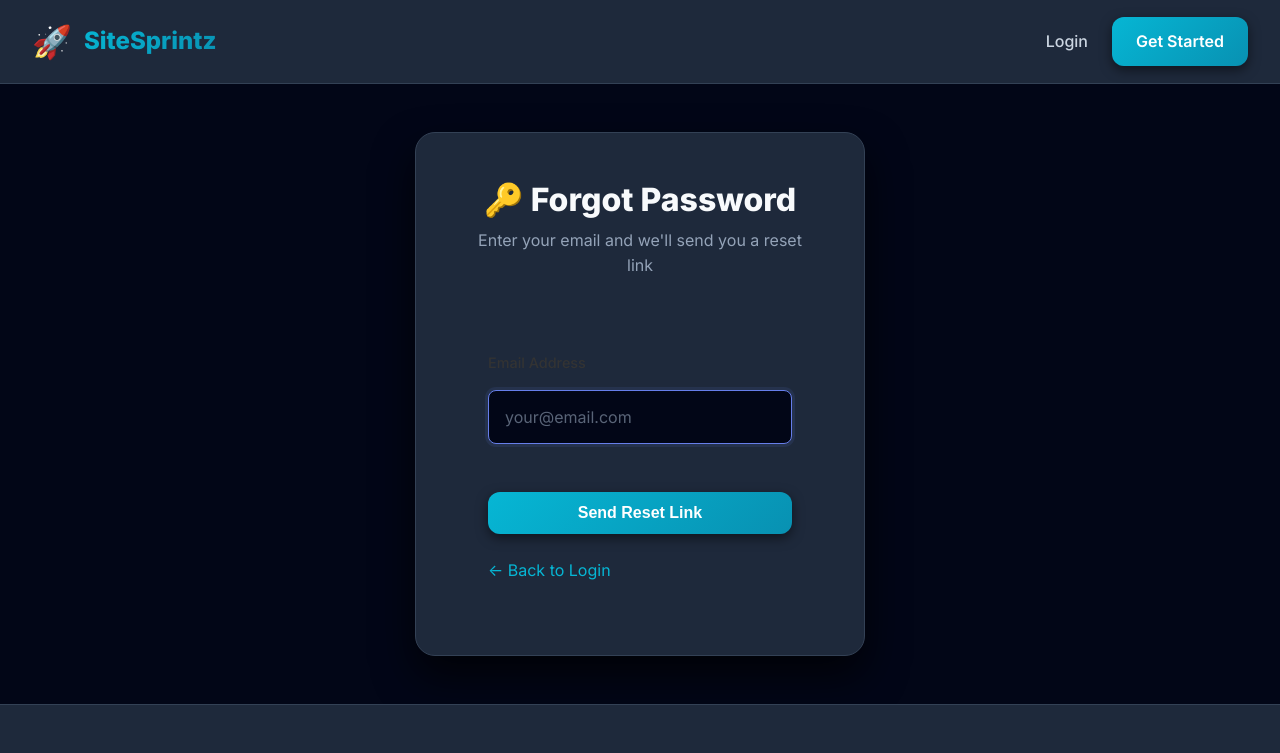
Test: ForgotPassword Component › should allow trying again after success
Type "test@example.com" into the field labelled "Email Address" at [640, 417], box [488, 390, 792, 444]
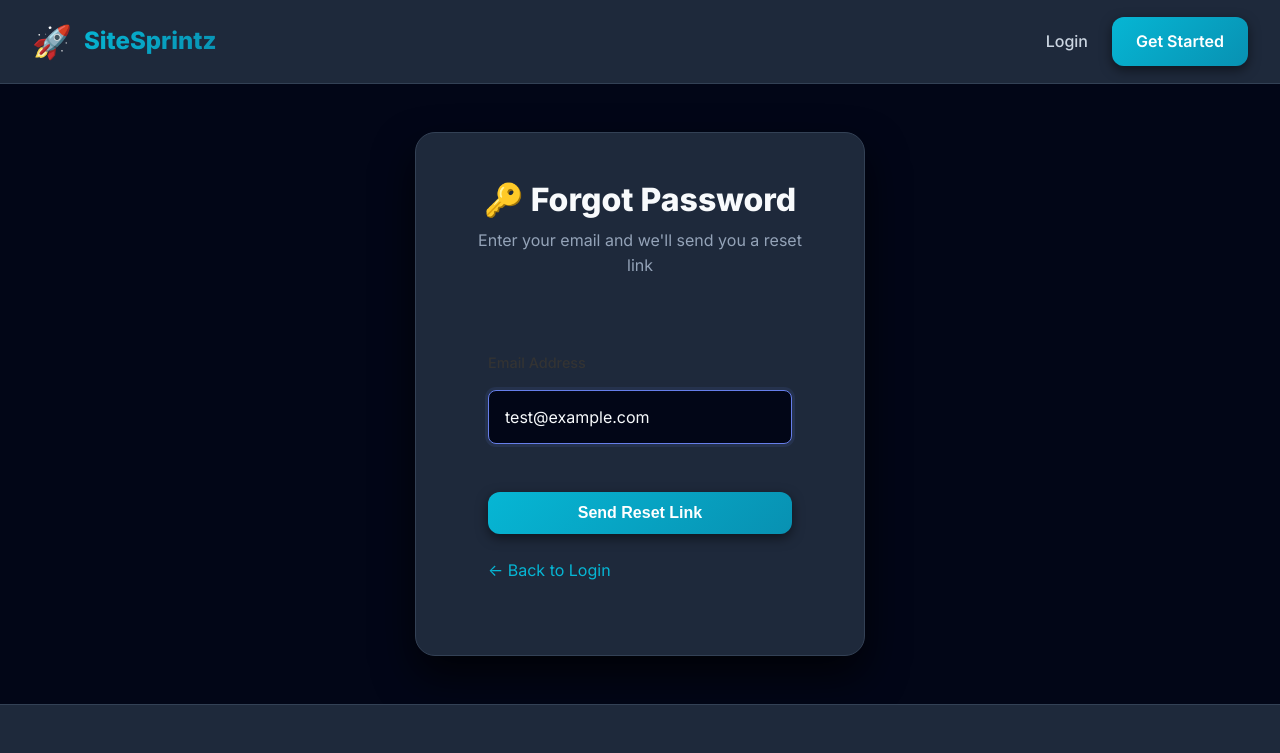
Click the button "Send Reset Link" at [640, 513], box [488, 492, 792, 534]
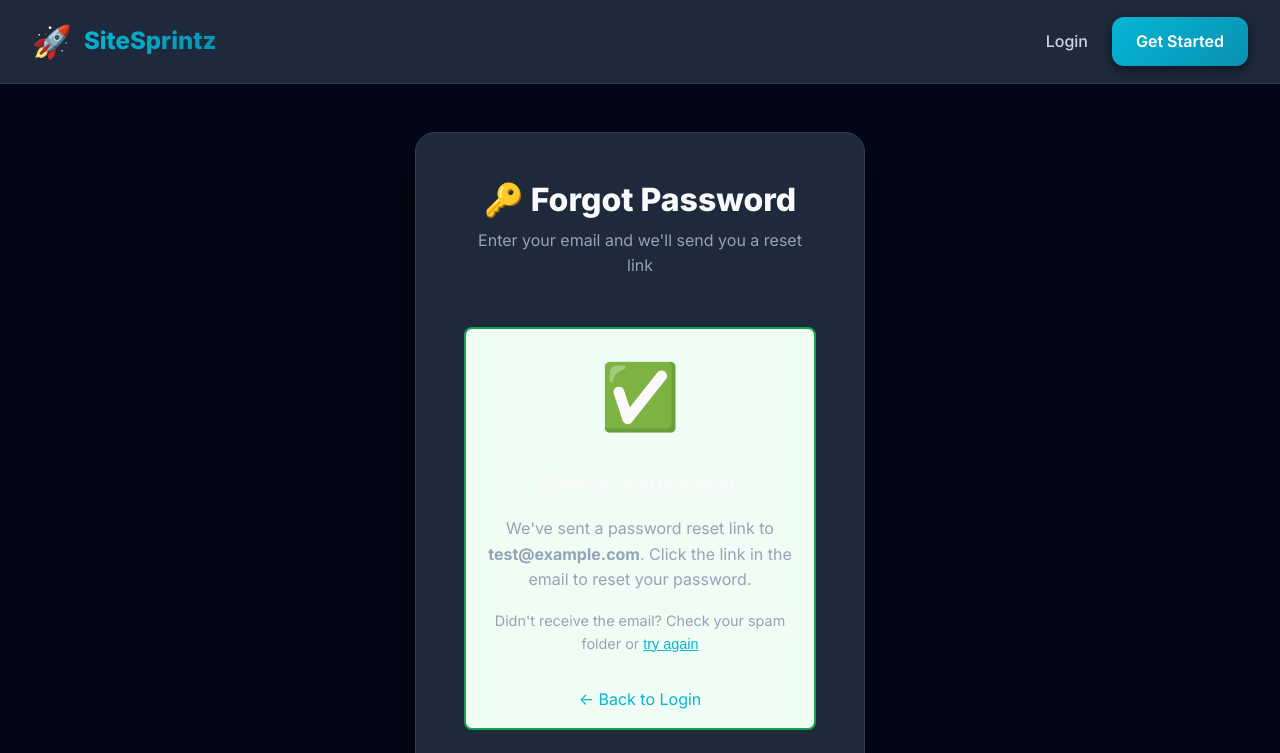
Click the button "try again" at [671, 644], box [643, 636, 698, 652]
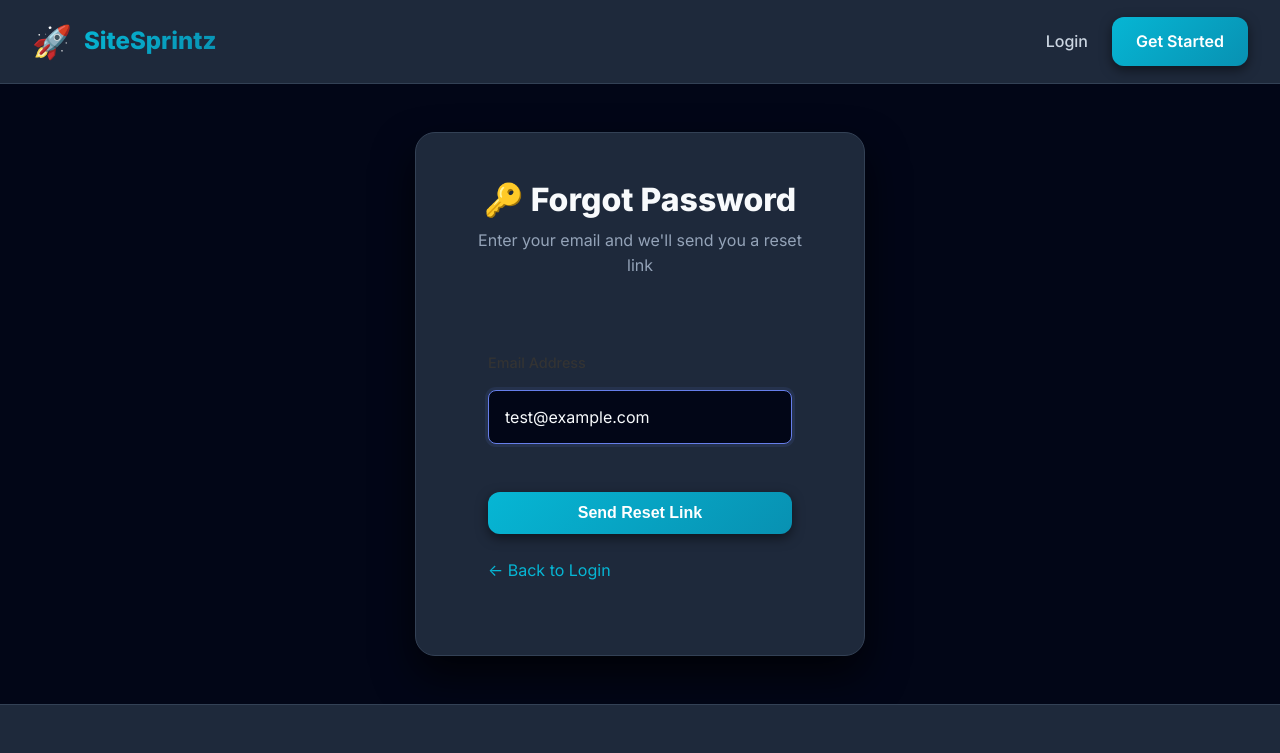
Expected: the field labelled "Email Address" is shown, [488, 390, 792, 444]
Expected: the button "Send Reset Link" is shown, [488, 492, 792, 534]
